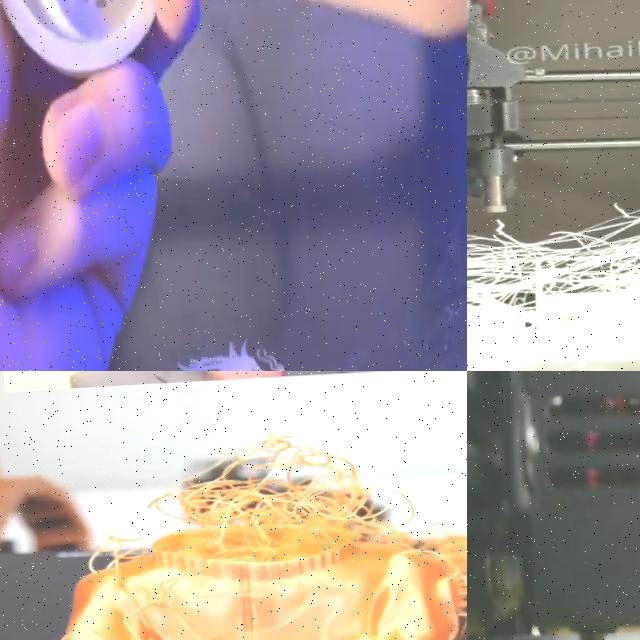spaghetti: (94, 435, 467, 585), (118, 466, 467, 598), (467, 200, 640, 371)
